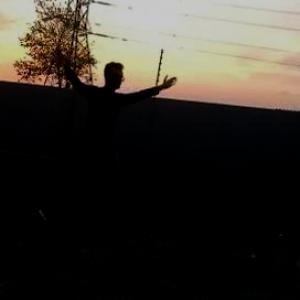takeoff: (46, 49, 179, 218)
